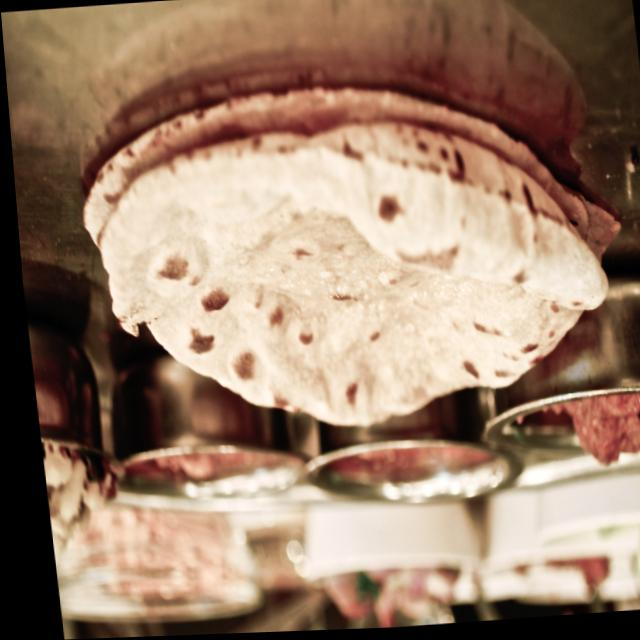CHAPATHI: (75, 90, 624, 425)
